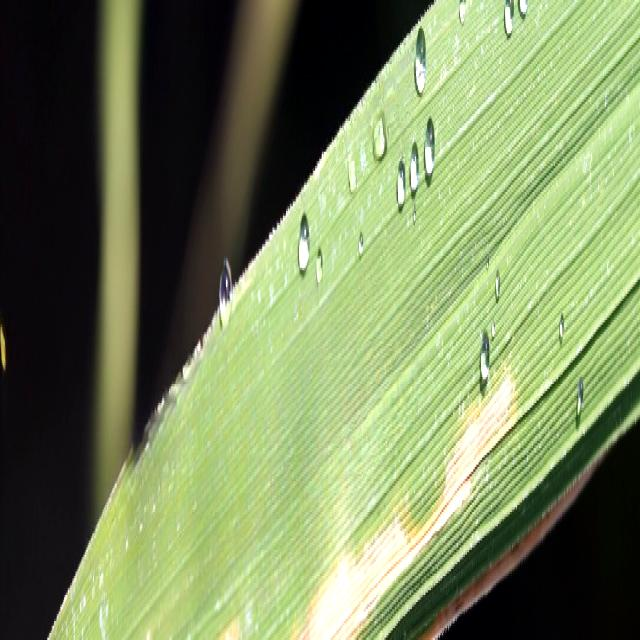BLB: (416, 461, 594, 640), (294, 505, 426, 640), (425, 360, 518, 546), (211, 611, 240, 640), (291, 635, 294, 640)
